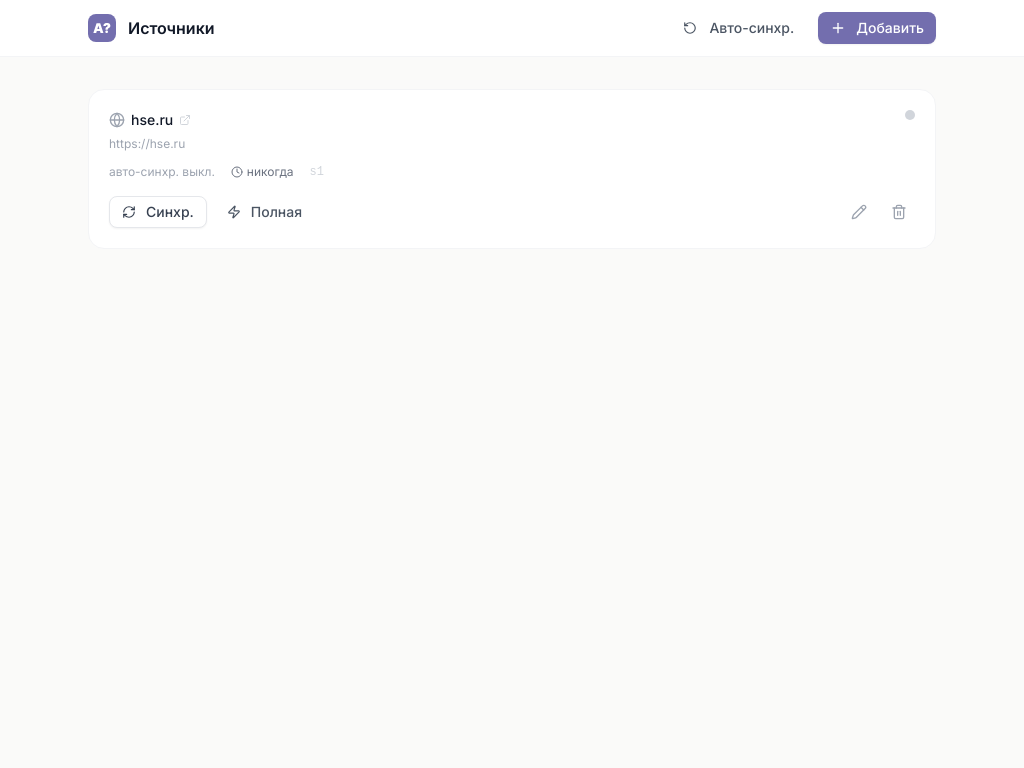
Test: SourcesPage › opens edit modal
The image size is (1024, 768).
Expected: the link "hse.ru" is shown, [109,110,191,130]
Click the button named "редактировать". click: x=859, y=212
box: [843,196,875,228]
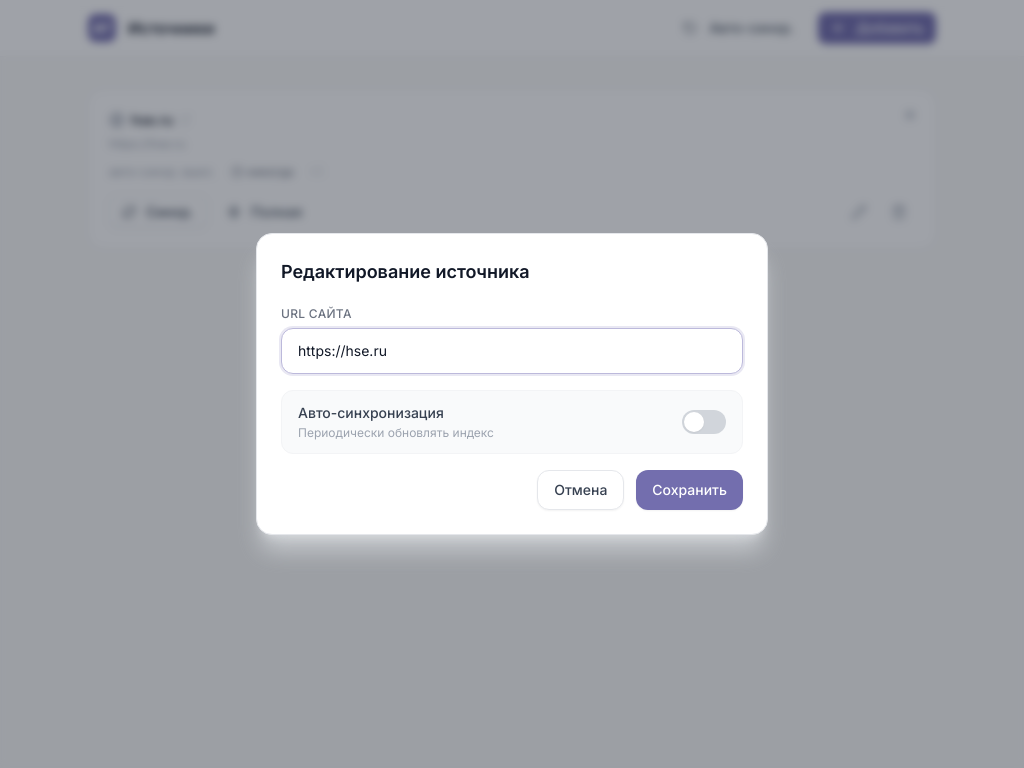
Now the dialog is shown, box [256,233,768,535]
Now the heading "Редактирование источника" is shown, box [281,261,530,282]
